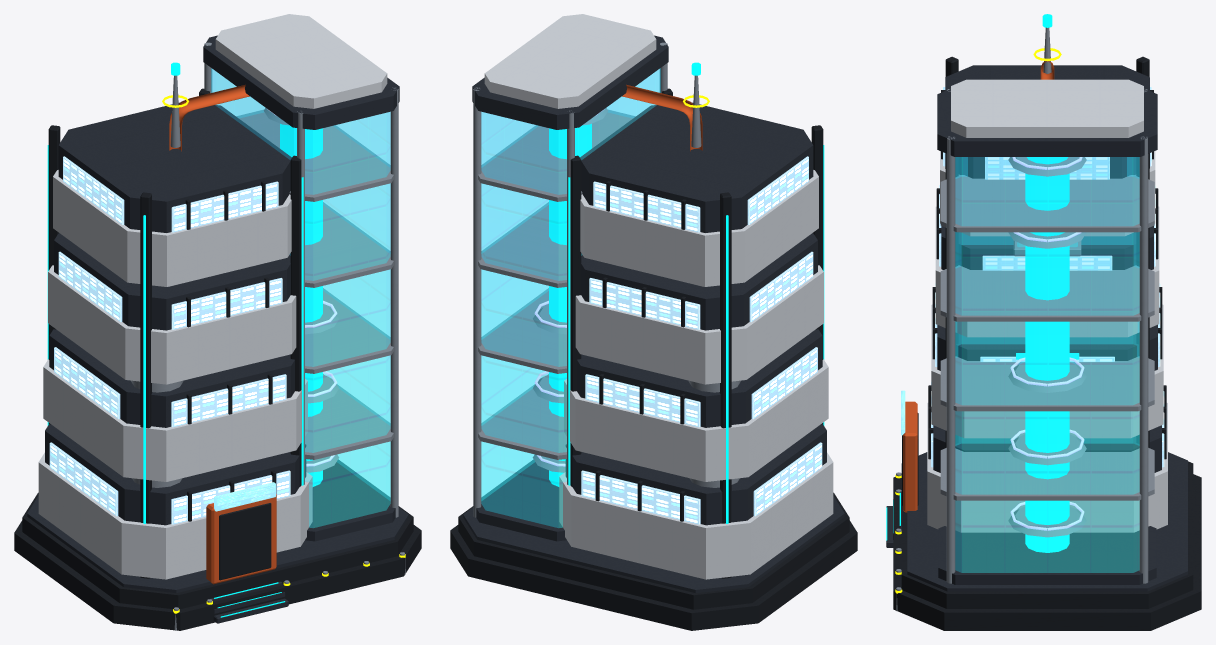
File: bldg_19_winner.glb
3 renders of one model, left to right at view 1: azimuth 30°, elevation 25°; view 2: azimuth 150°, elevation 25°; view 3: azimuth 270°, elevation 25°, orthographic. The views are drawn at different scales.
Parts seen in each view (by area): view 1: Bldg19_C02_aero_white, Bldg19_C02_carbon_slate, Bldg19_C02_glass_cyan, Bldg19_C02_gunmetal, Bldg19_C02_steel_machined, Bldg19_C02_window_lit, Bldg19_C02_led_cyan, Bldg19_C02_accent_orange, Bldg19_C02_marquee; view 2: Bldg19_C02_aero_white, Bldg19_C02_carbon_slate, Bldg19_C02_glass_cyan, Bldg19_C02_gunmetal, Bldg19_C02_steel_machined, Bldg19_C02_window_lit, Bldg19_C02_led_cyan, Bldg19_C02_accent_orange; view 3: Bldg19_C02_glass_cyan, Bldg19_C02_steel_machined, Bldg19_C02_carbon_slate, Bldg19_C02_aero_white, Bldg19_C02_gunmetal, Bldg19_C02_led_cyan, Bldg19_C02_window_lit, Bldg19_C02_accent_orange, Bldg19_C02_led_uv.
Part boxes in pixels (box(x1,y1,x2,y2)): Bldg19_C02_aero_white: box(38, 14, 387, 579); Bldg19_C02_carbon_slate: box(27, 35, 408, 623); Bldg19_C02_glass_cyan: box(211, 68, 390, 527); Bldg19_C02_gunmetal: box(14, 88, 421, 630); Bldg19_C02_steel_machined: box(63, 42, 405, 630); Bldg19_C02_window_lit: box(49, 156, 290, 524); Bldg19_C02_led_cyan: box(47, 62, 322, 617); Bldg19_C02_accent_orange: box(169, 84, 276, 584); Bldg19_C02_marquee: box(214, 482, 275, 511); Bldg19_C02_aero_white: box(484, 14, 833, 579); Bldg19_C02_carbon_slate: box(463, 35, 844, 593); Bldg19_C02_glass_cyan: box(481, 68, 660, 527); Bldg19_C02_gunmetal: box(450, 88, 857, 630); Bldg19_C02_steel_machined: box(473, 42, 808, 517); Bldg19_C02_window_lit: box(581, 156, 822, 524); Bldg19_C02_led_cyan: box(549, 62, 824, 523); Bldg19_C02_accent_orange: box(622, 84, 702, 151); Bldg19_C02_glass_cyan: box(955, 157, 1139, 572); Bldg19_C02_steel_machined: box(896, 27, 1154, 611); Bldg19_C02_carbon_slate: box(886, 65, 1187, 591); Bldg19_C02_aero_white: box(927, 79, 1167, 532); Bldg19_C02_gunmetal: box(893, 56, 1201, 630); Bldg19_C02_led_cyan: box(886, 14, 1079, 552); Bldg19_C02_window_lit: box(931, 87, 1164, 467); Bldg19_C02_accent_orange: box(903, 61, 1054, 512); Bldg19_C02_led_uv: box(1010, 157, 1084, 530).
Bounding box in the file's own units: 12 × 18.42 × 10.23.
11 materials, 11 textured.
